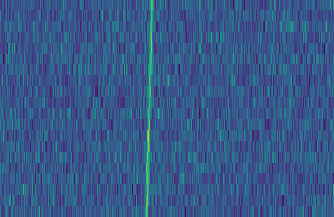signal: (142, 0, 156, 217)
